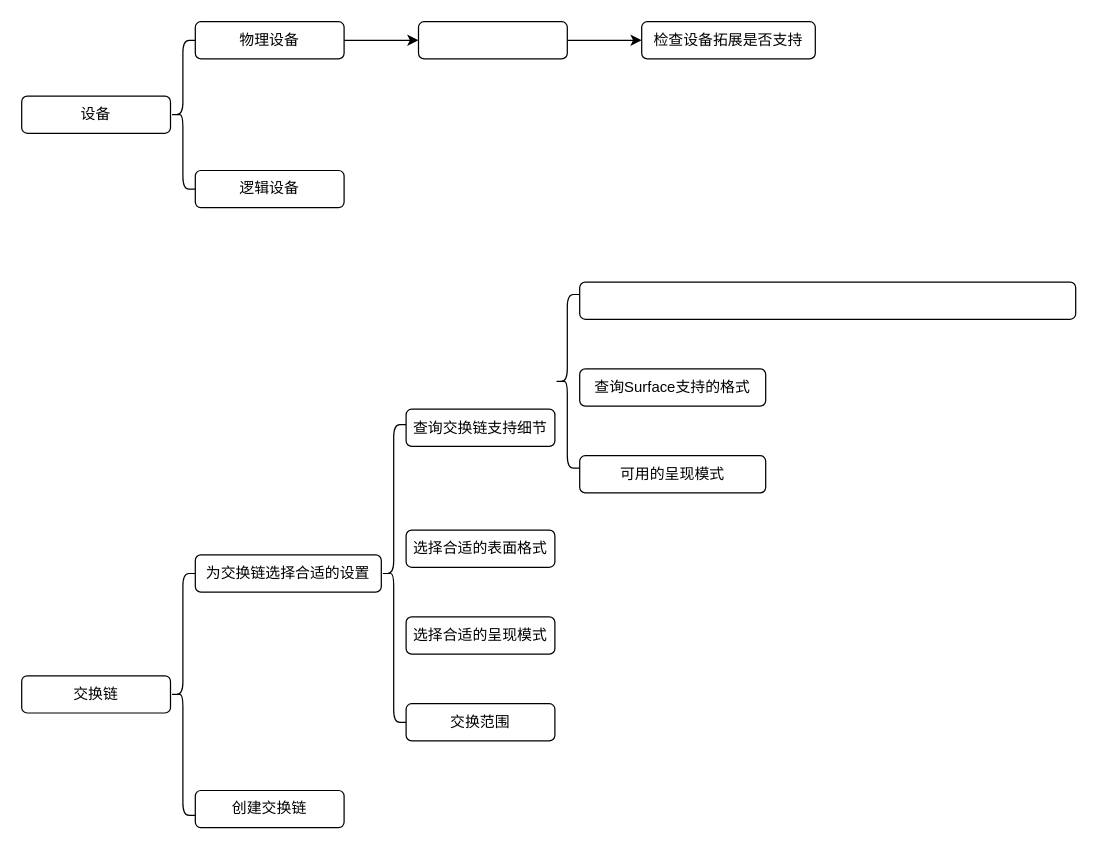
This 1097x849 diagram has some shape labels left out. Here are the shapes that lost their labels. From the top down, the centre of each, then its label:
At [492,39]: "挑选物理设备".
At [827,300]: "基础表面特性(交换链的最小/最大图像数量，最小/最大图像宽度、高 度)".
